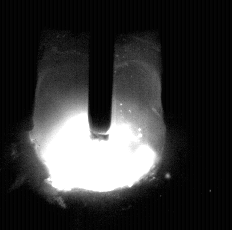arame: (89, 0, 113, 140)
poca: (32, 0, 168, 230)
